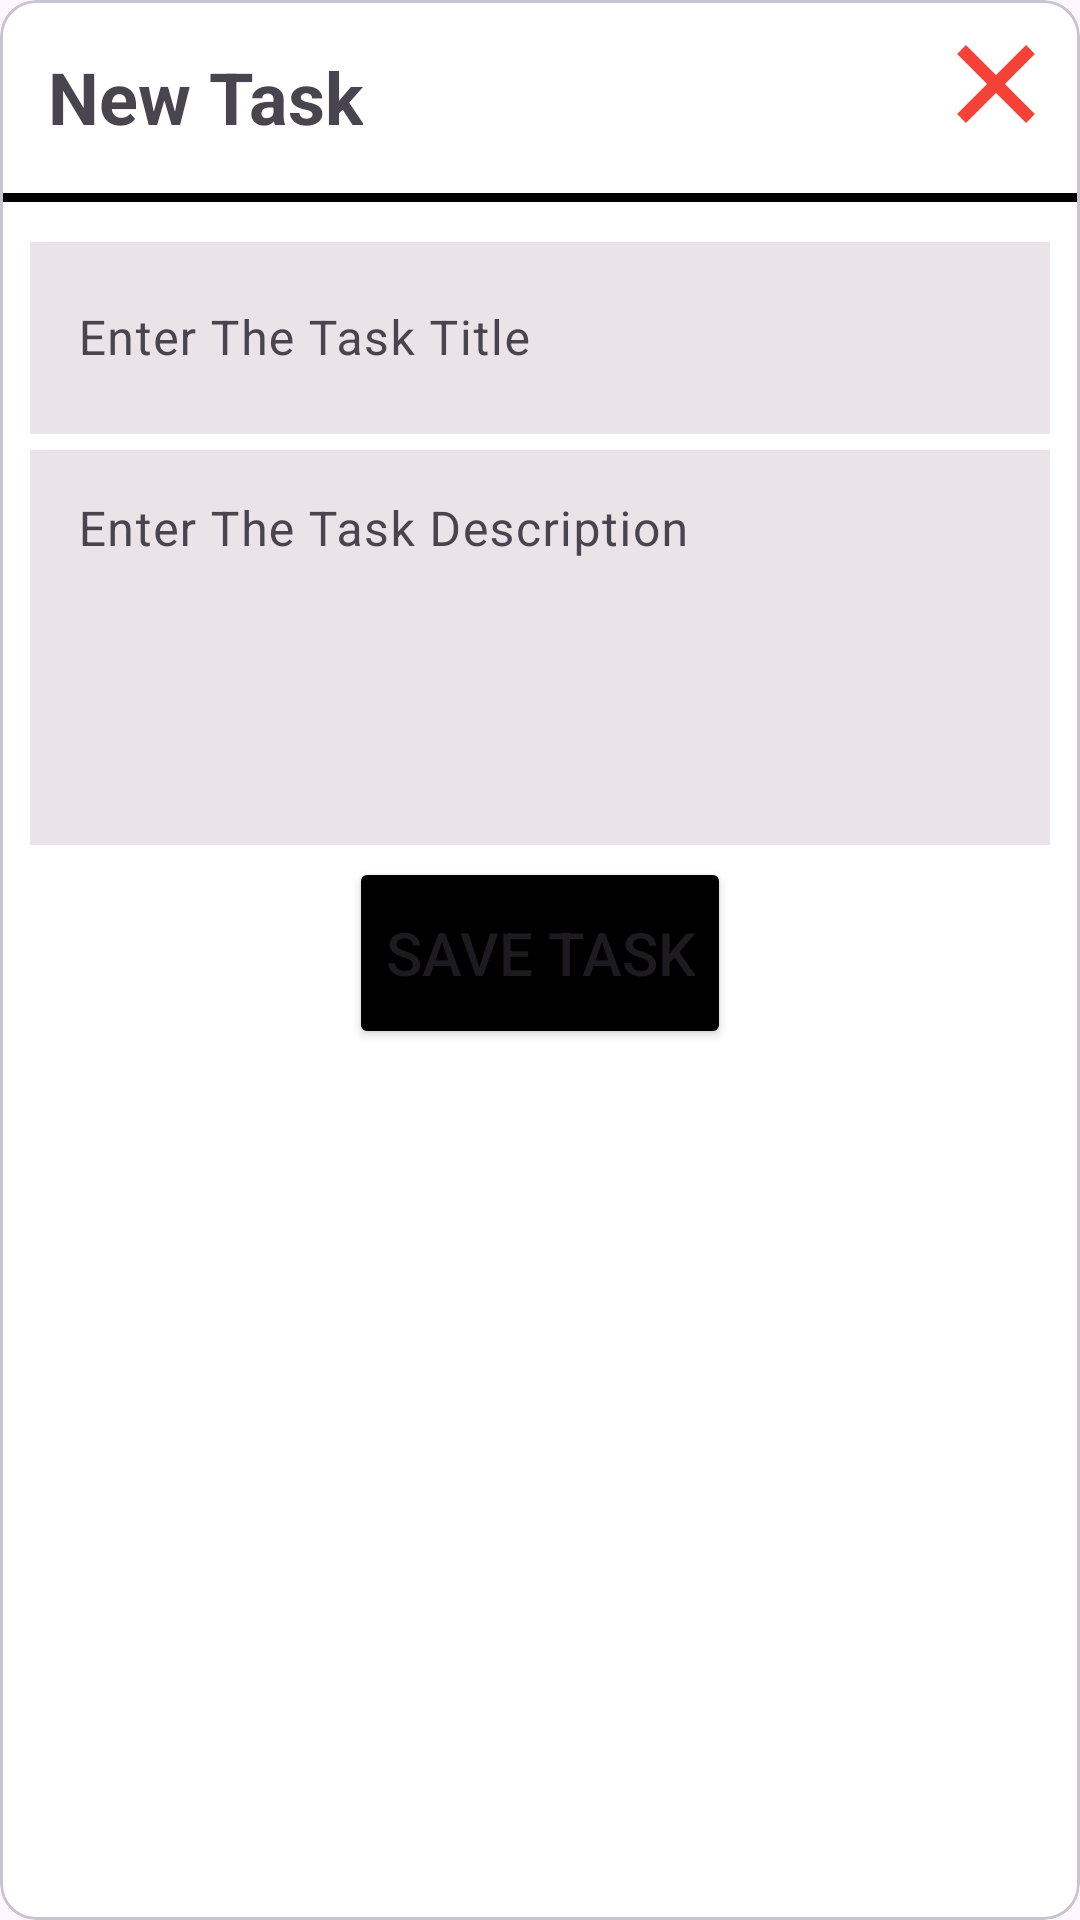

Icons on this 1080 x 1920 Android screen, each with the point to tap as point (x, y):
close: point (996, 84)
